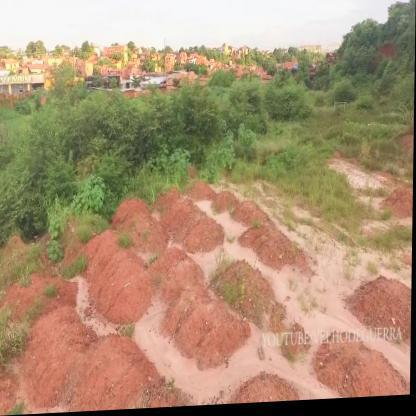agua: (180, 349, 278, 383)
